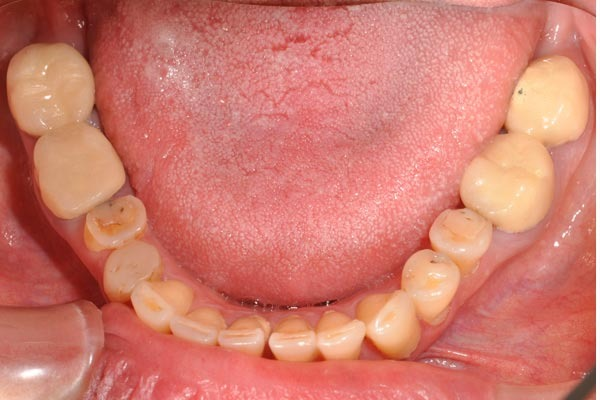LL1BC_decay: (404, 247, 459, 315)
LL1M_healthy: (467, 138, 552, 227)
LL2BC_healthy: (432, 205, 492, 263)
LL2M_healthy: (508, 59, 589, 142)
LLCI_healthy: (269, 313, 316, 359)
LLC_healthy: (366, 289, 421, 352)
LLLI_healthy: (315, 309, 363, 356)
LR1BC_healthy: (99, 244, 164, 293)
LR1M_healthy: (35, 128, 123, 208)
LR2BC_decay: (83, 200, 149, 243)
LR2M_healthy: (12, 45, 92, 120)
LRCI_healthy: (223, 315, 266, 351)
LRC_healthy: (136, 280, 184, 327)
LRLI_healthy: (181, 304, 221, 342)
